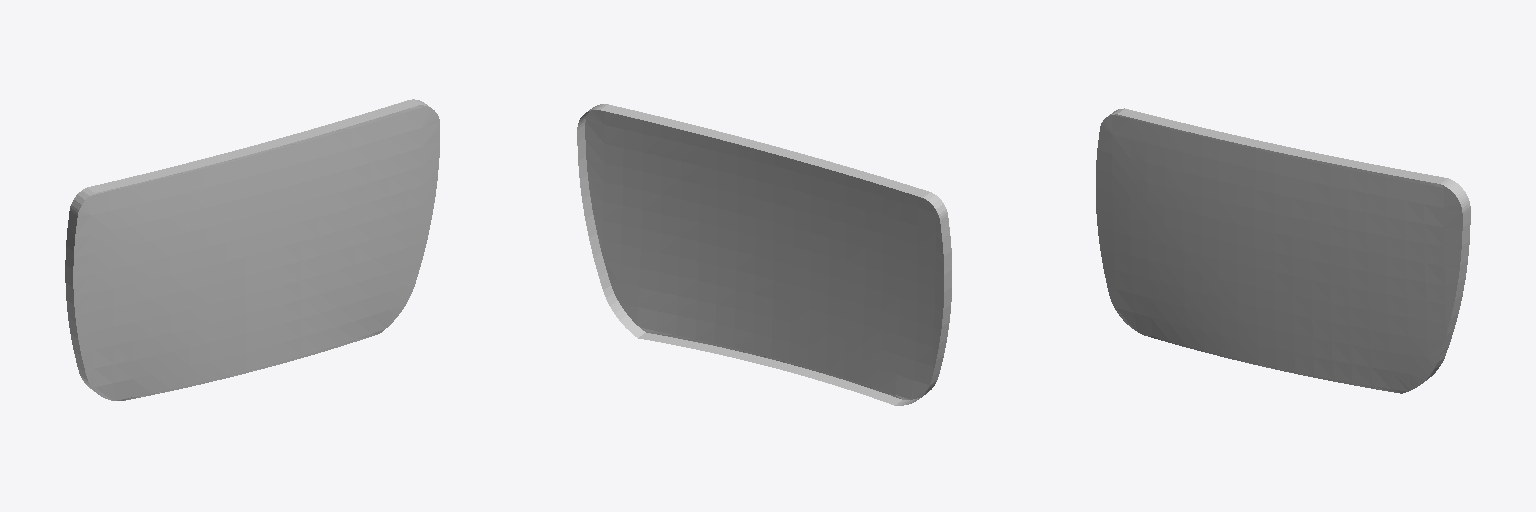
Rendered from original-6.obj.
3 views of the same model, side by side, from view 1: azimuth 30°, elevation 25°; view 2: azimuth 150°, elevation 25°; view 3: azimuth 330°, elevation 25° (orthographic).
Visible parts, largest first — view 1: Group4/mesh4/mesh4-geometry#mesh4-geometry; view 2: Group4/mesh4/mesh4-geometry#mesh4-geometry; view 3: Group4/mesh4/mesh4-geometry#mesh4-geometry.
Boxes of the visible parts, x1=… form: Group4/mesh4/mesh4-geometry#mesh4-geometry: x1=65, y1=99, x2=439, y2=400; Group4/mesh4/mesh4-geometry#mesh4-geometry: x1=577, y1=104, x2=951, y2=405; Group4/mesh4/mesh4-geometry#mesh4-geometry: x1=1096, y1=108, x2=1470, y2=393.
Bounding box in the file's own units: 0.4765 × 0.2774 × 0.0321.